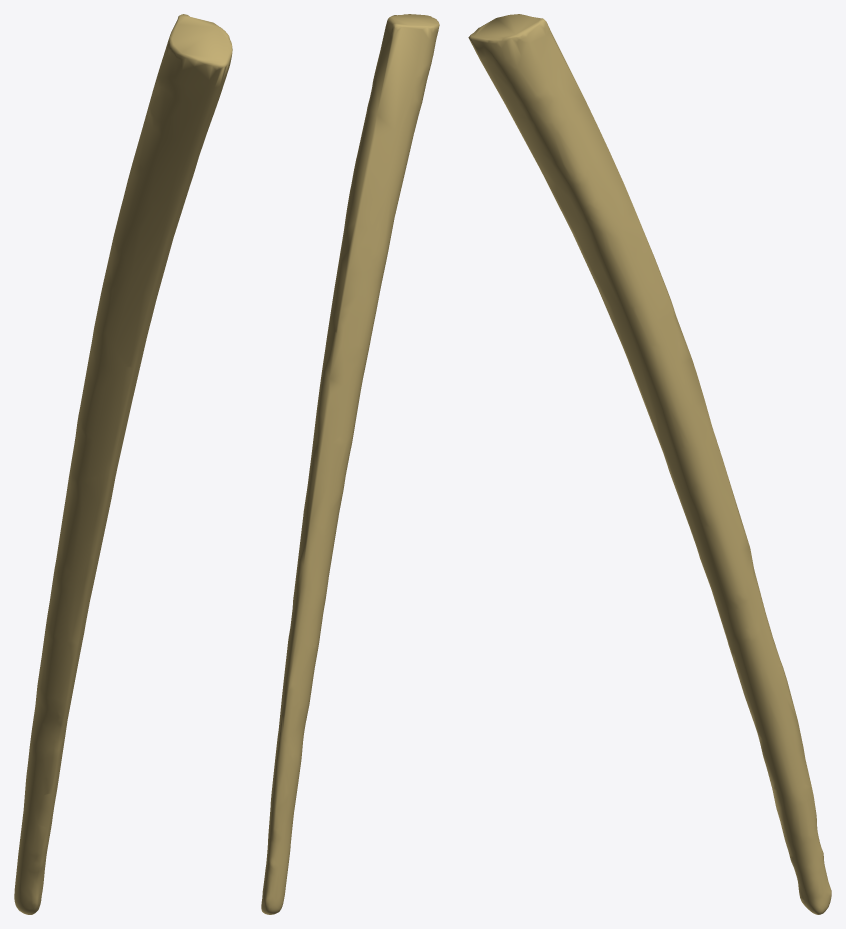
File: spinal_cord.glb
3 renders of one model, left to right at view 1: azimuth 30°, elevation 25°; view 2: azimuth 150°, elevation 25°; view 3: azimuth 270°, elevation 25°, orthographic. The views are drawn at different scales.
Parts seen in each view (by area): view 1: FMA78497.stl; view 2: FMA78497.stl; view 3: FMA78497.stl.
Part boxes in pixels (x1,y1,x2,y2): FMA78497.stl: (14,14,232,914); FMA78497.stl: (261,14,439,914); FMA78497.stl: (468,14,831,914).
Bounding box in the file's own units: 0.1272 × 2 × 0.7381.
